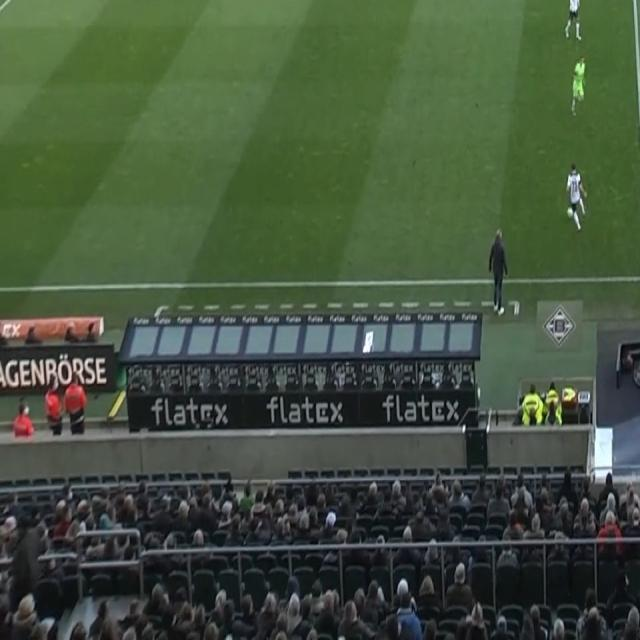ball: (566, 205, 574, 219)
